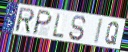I: (93, 18, 104, 46)
L: (52, 12, 65, 39)
P: (31, 9, 53, 37)
Q: (104, 21, 121, 46)
R: (15, 7, 35, 35)
S: (67, 15, 87, 43)
